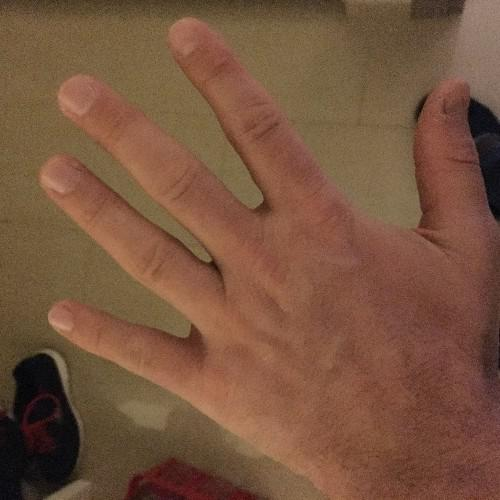paper: (20, 10, 488, 468)
